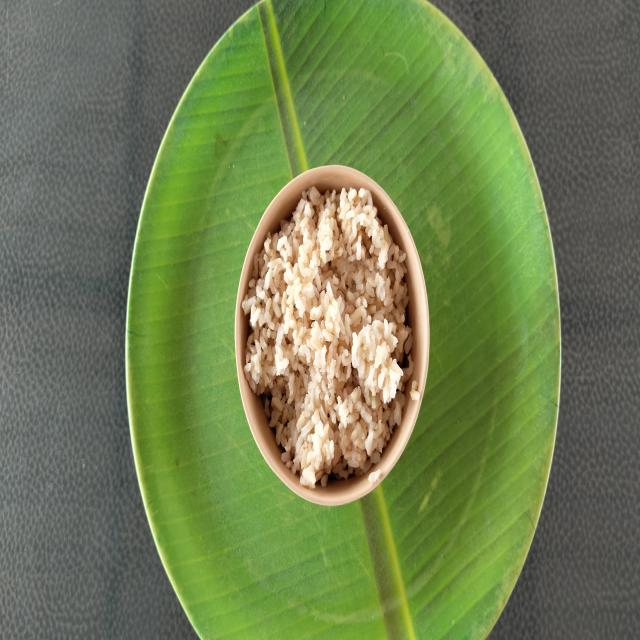brown-rice: (242, 186, 412, 488)
